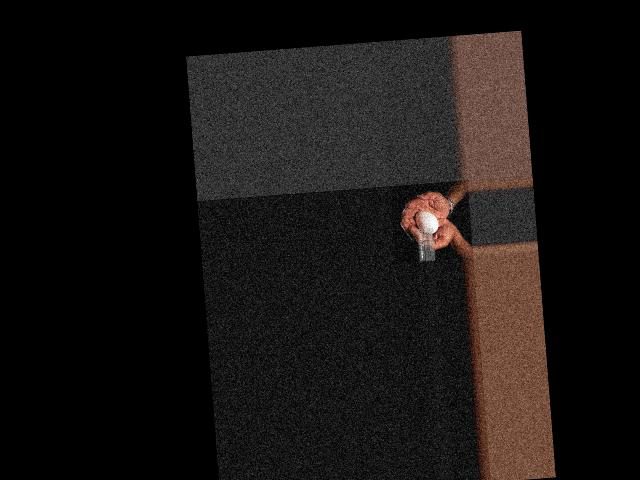egg: (414, 209, 438, 234)
